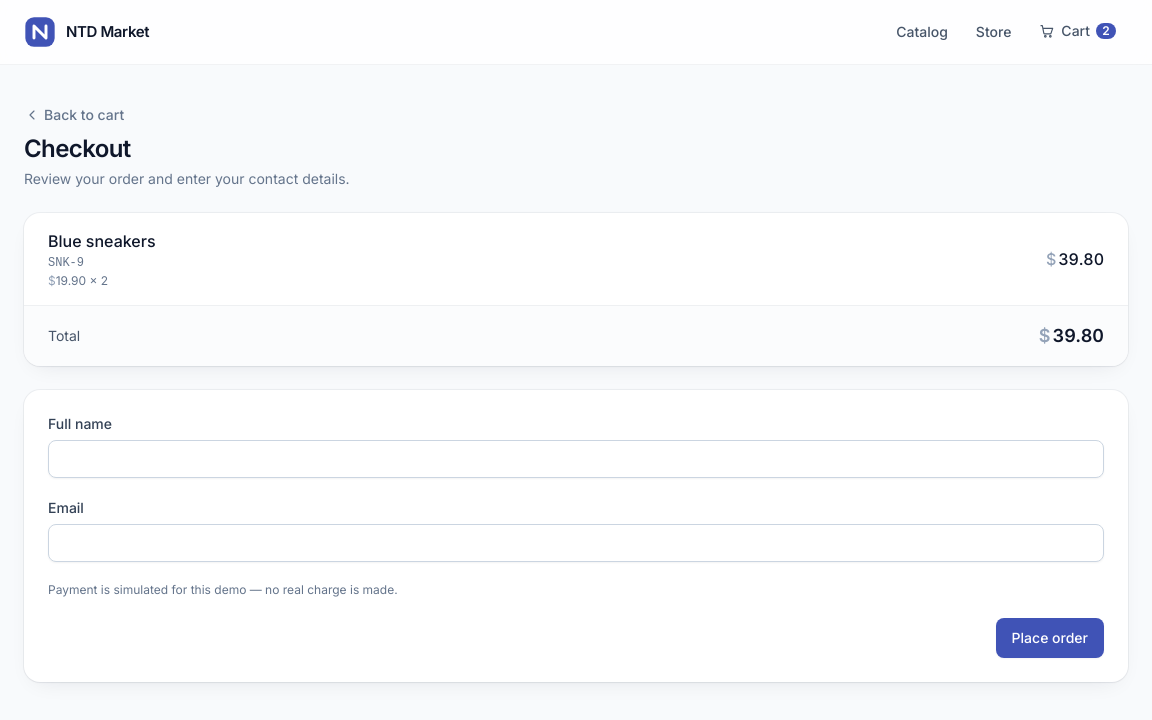
CheckoutPage › validates the contact fields before sending a request
expect the text "Blue sneakers" is shown: met, box [48,229,156,253]
# Act — submit empty
Click the button "Place order".
click(1050, 638)  # box [996,618,1104,658]
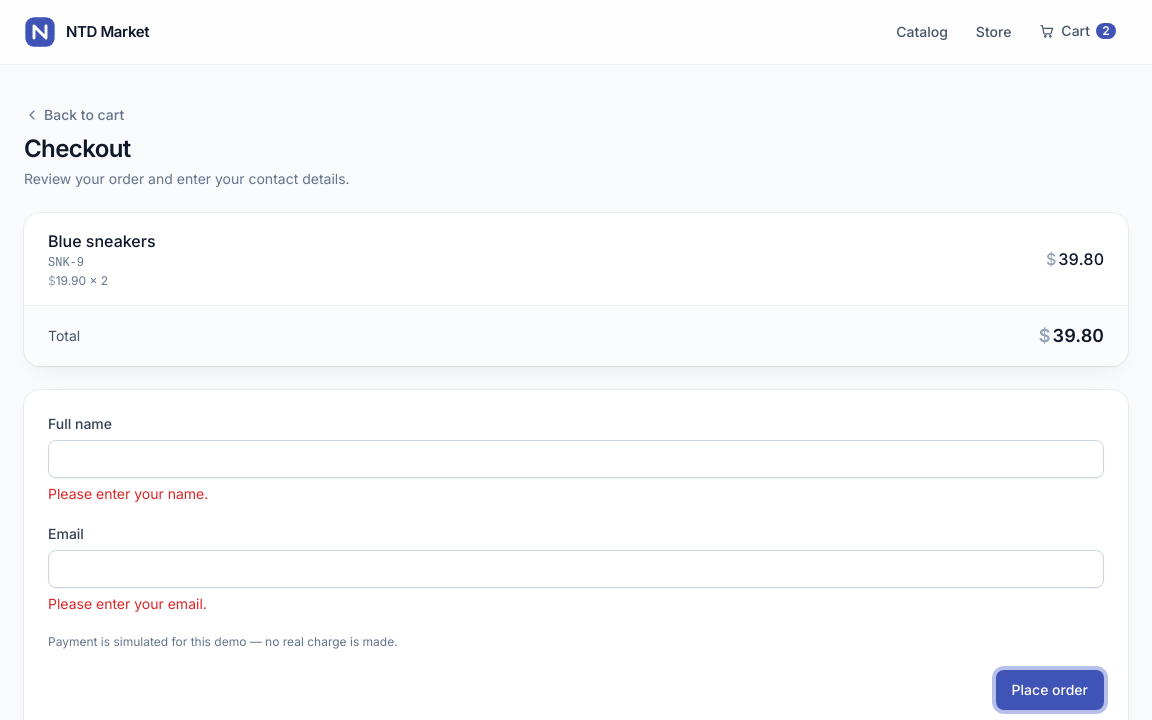
expect the text "Please enter your name." is shown: met, box [48,485,208,502]
expect the text "Please enter your email." is shown: met, box [48,595,207,612]
# Act — invalid email
Type "Ada" into the field labelled "Full name".
click(576, 459); type("Ada")  # box [48,440,1104,478]
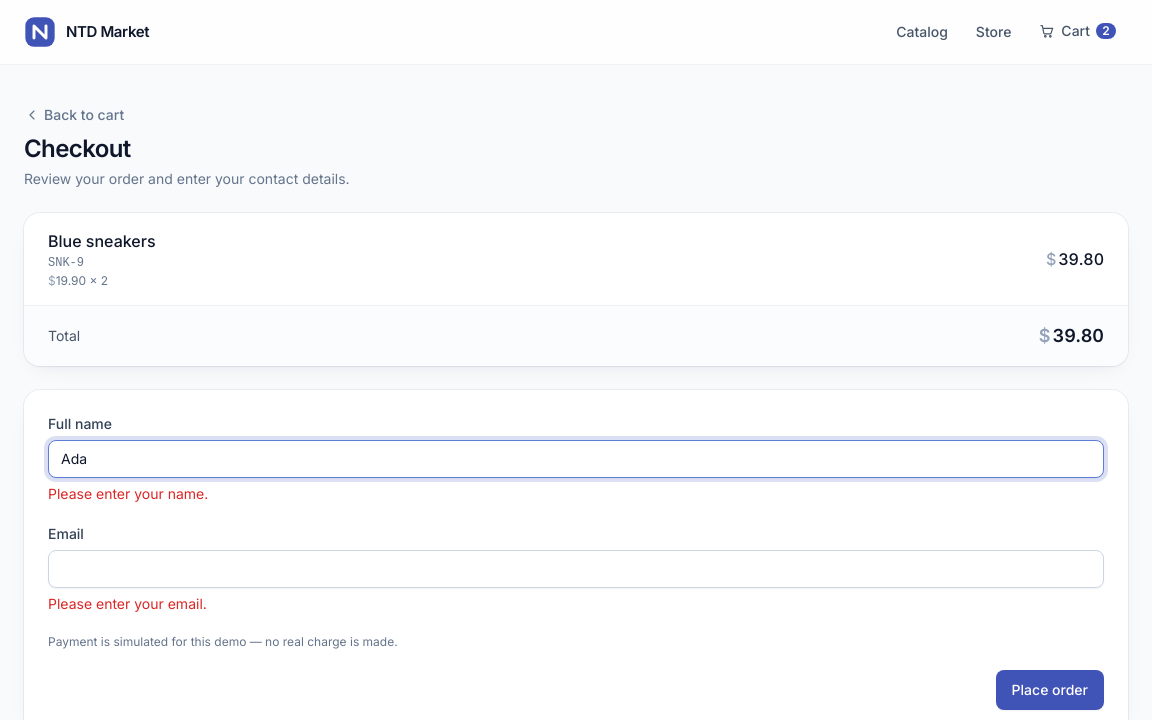
Type "not-an-email" into the field labelled "Email".
click(576, 569); type("not-an-email")  # box [48,550,1104,588]
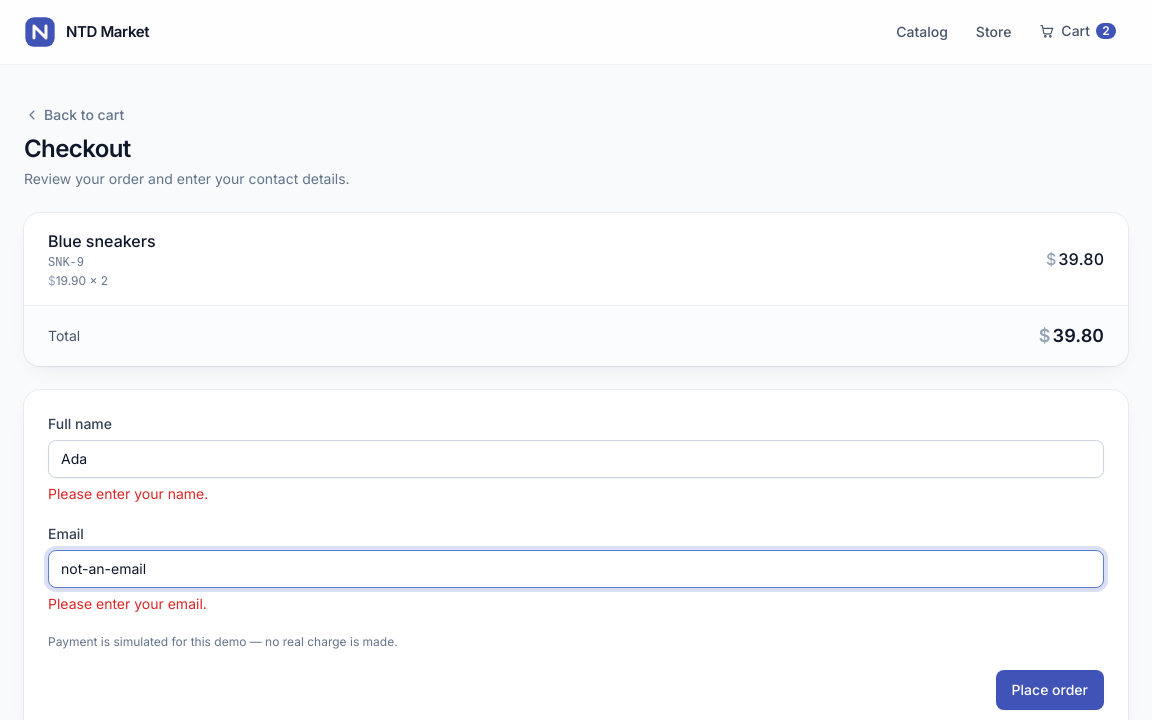
Click the button "Place order".
click(1050, 690)  # box [996,670,1104,710]
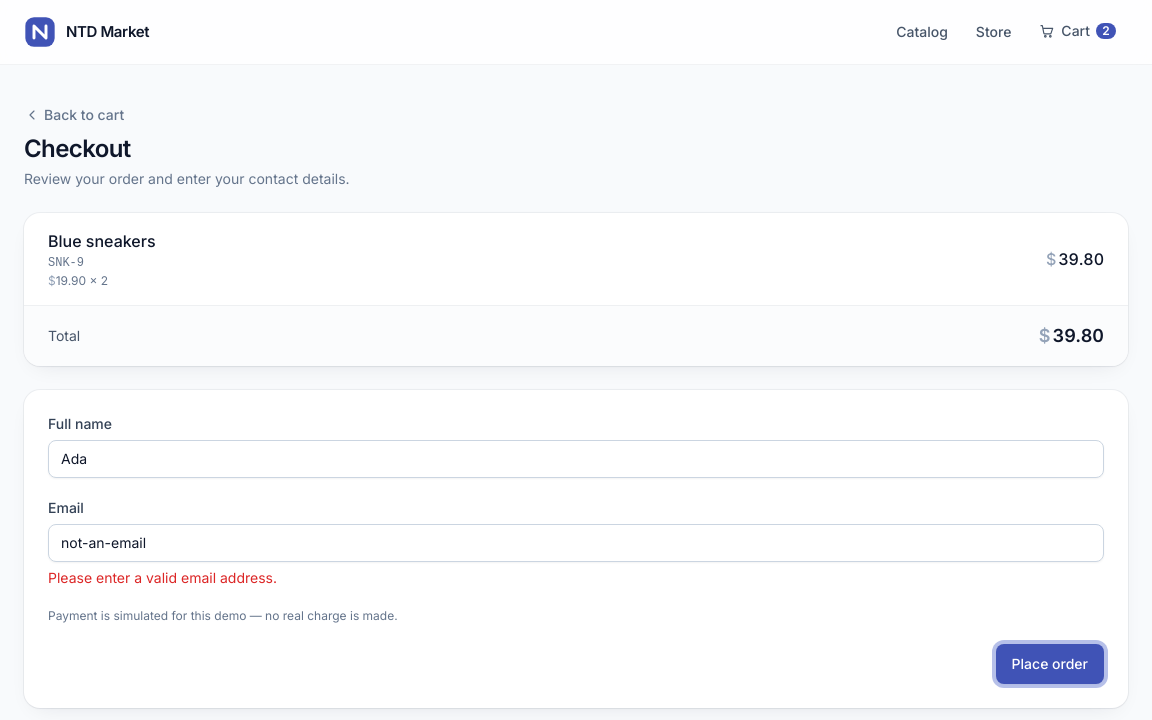
expect the text "Please enter a valid email address." is shown: met, box [48,569,277,586]
